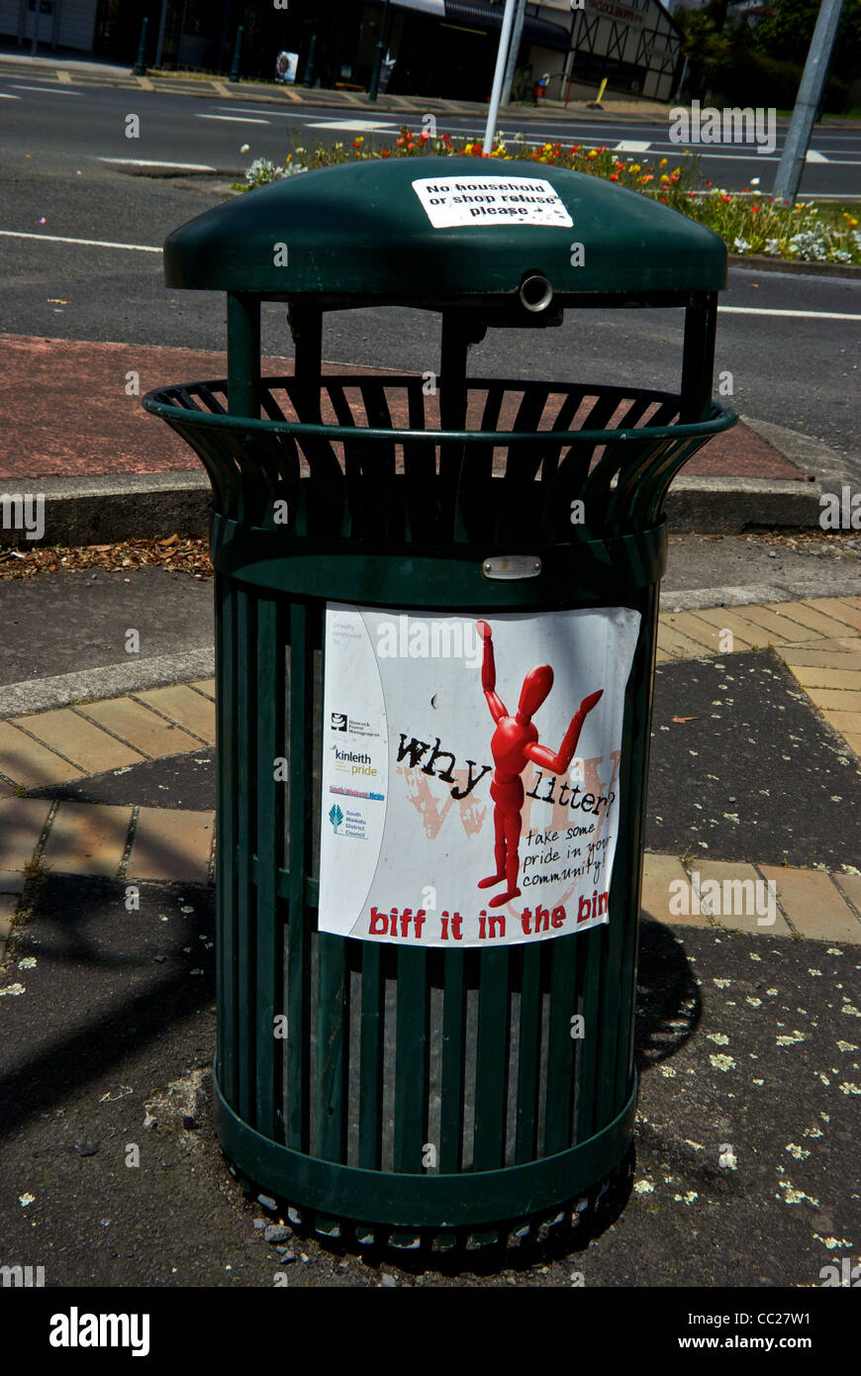TrashBin: (135, 139, 736, 1268)
